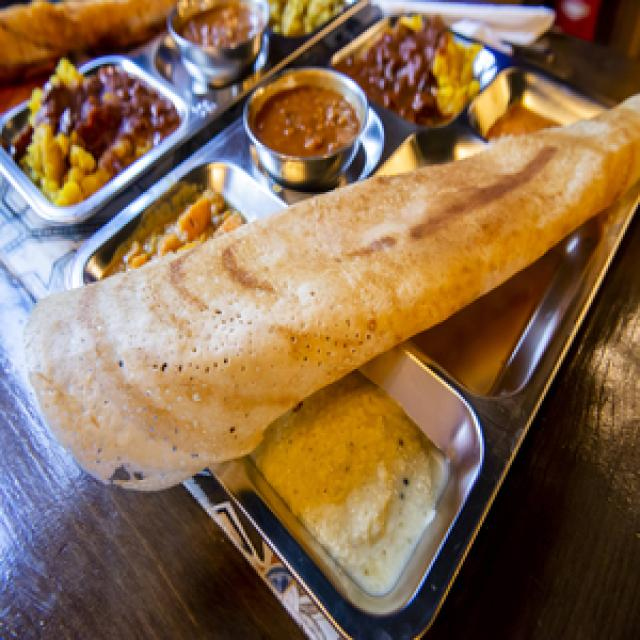dosa: (14, 88, 640, 509)
